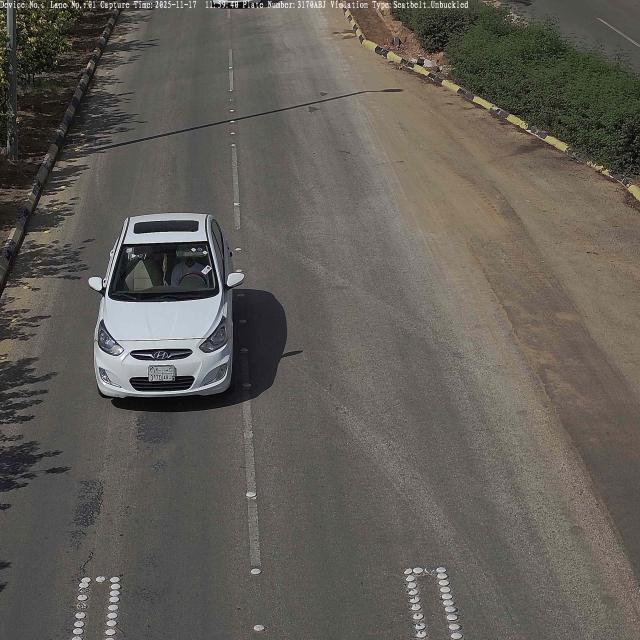person_without_seatbelt: (171, 249, 208, 288)
